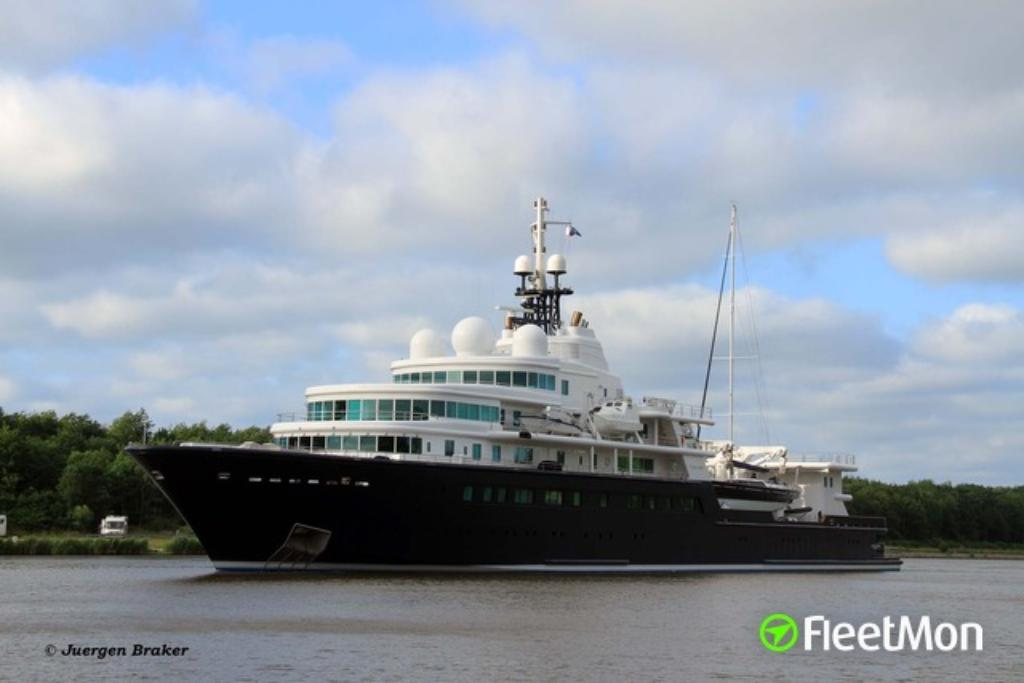PassengerShip: (126, 198, 904, 576)
